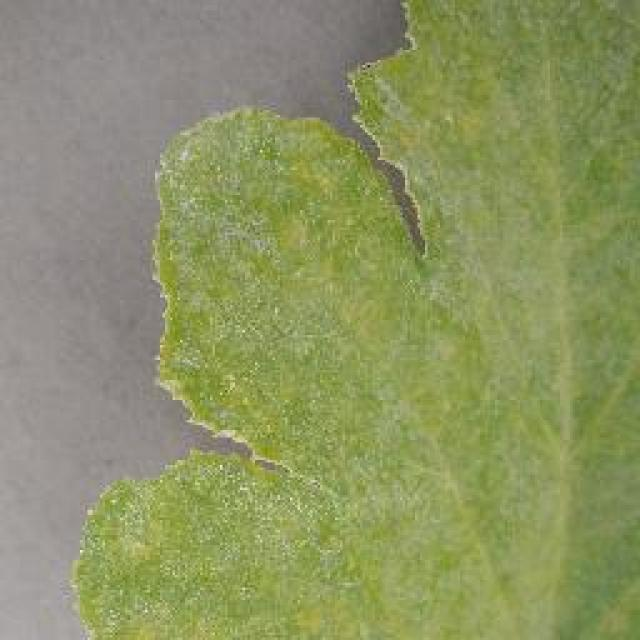Squ_Powdery_mildew: (174, 91, 570, 540)
